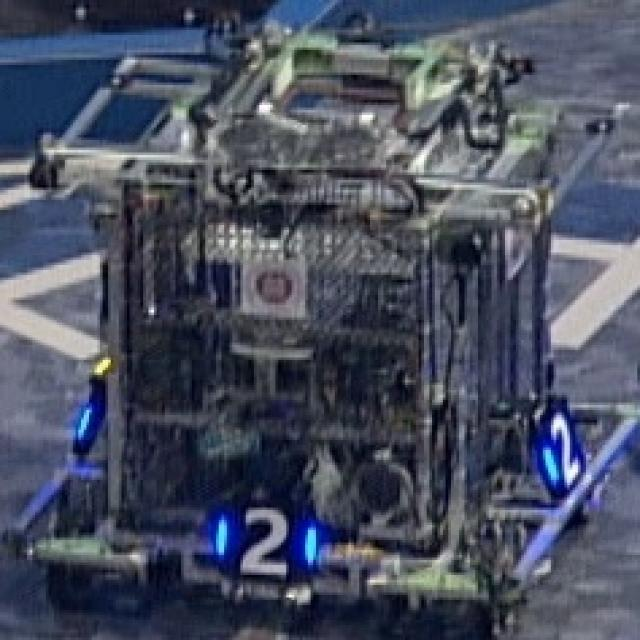B2: (213, 498, 319, 582), (532, 402, 589, 488)
